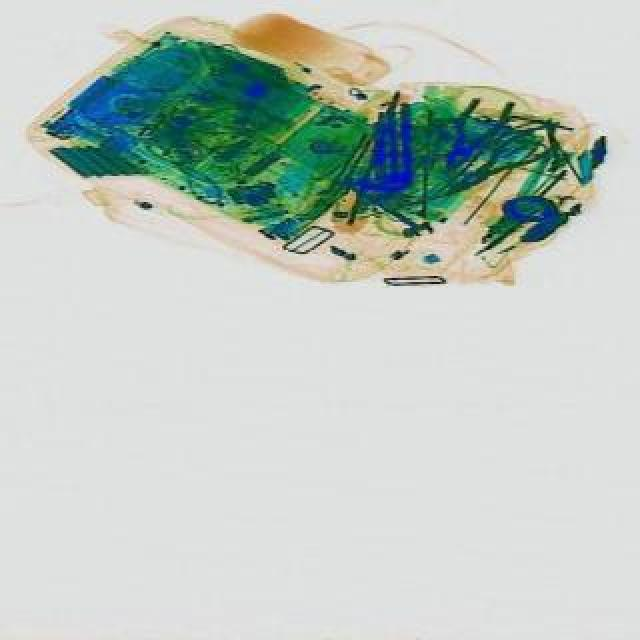scissors: (350, 186, 430, 244)
wrench: (444, 120, 556, 208), (430, 88, 514, 180)
